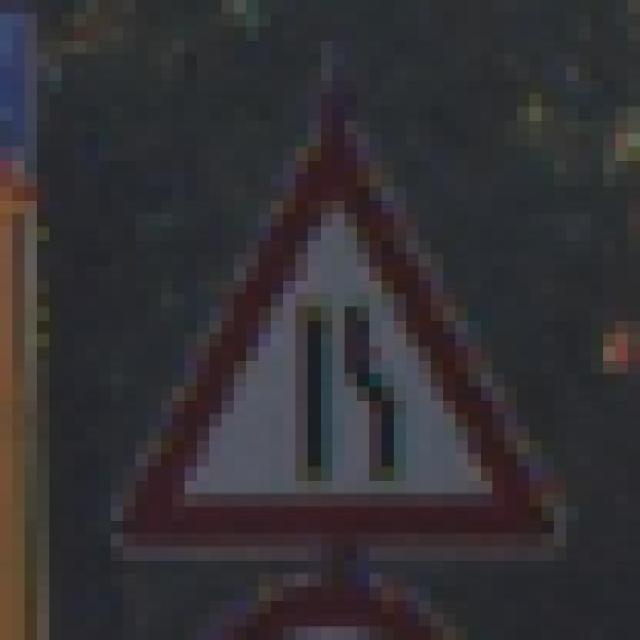-Road narrows on right: (99, 106, 578, 574)
